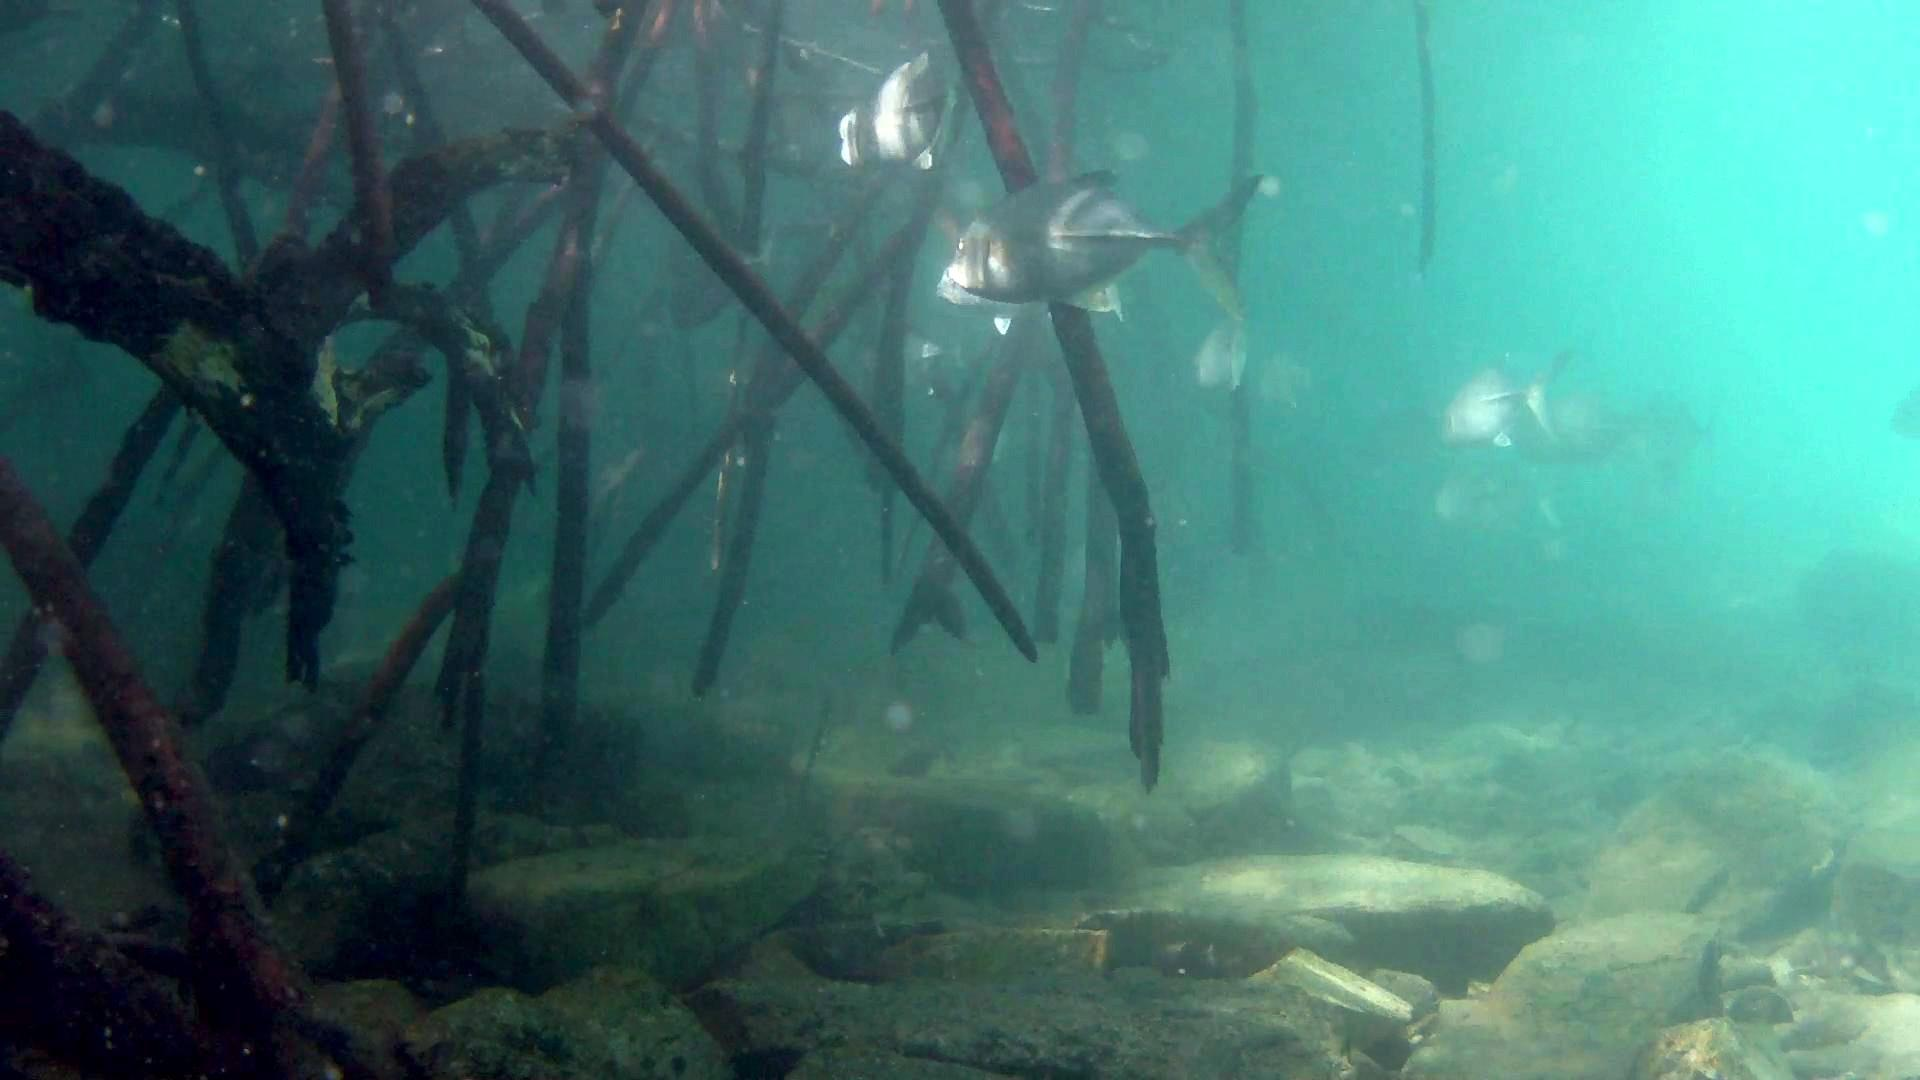caranx: (934, 158, 1282, 330)
